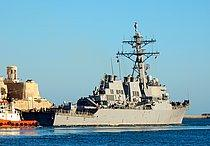MIL_Ship: (20, 21, 191, 127)
